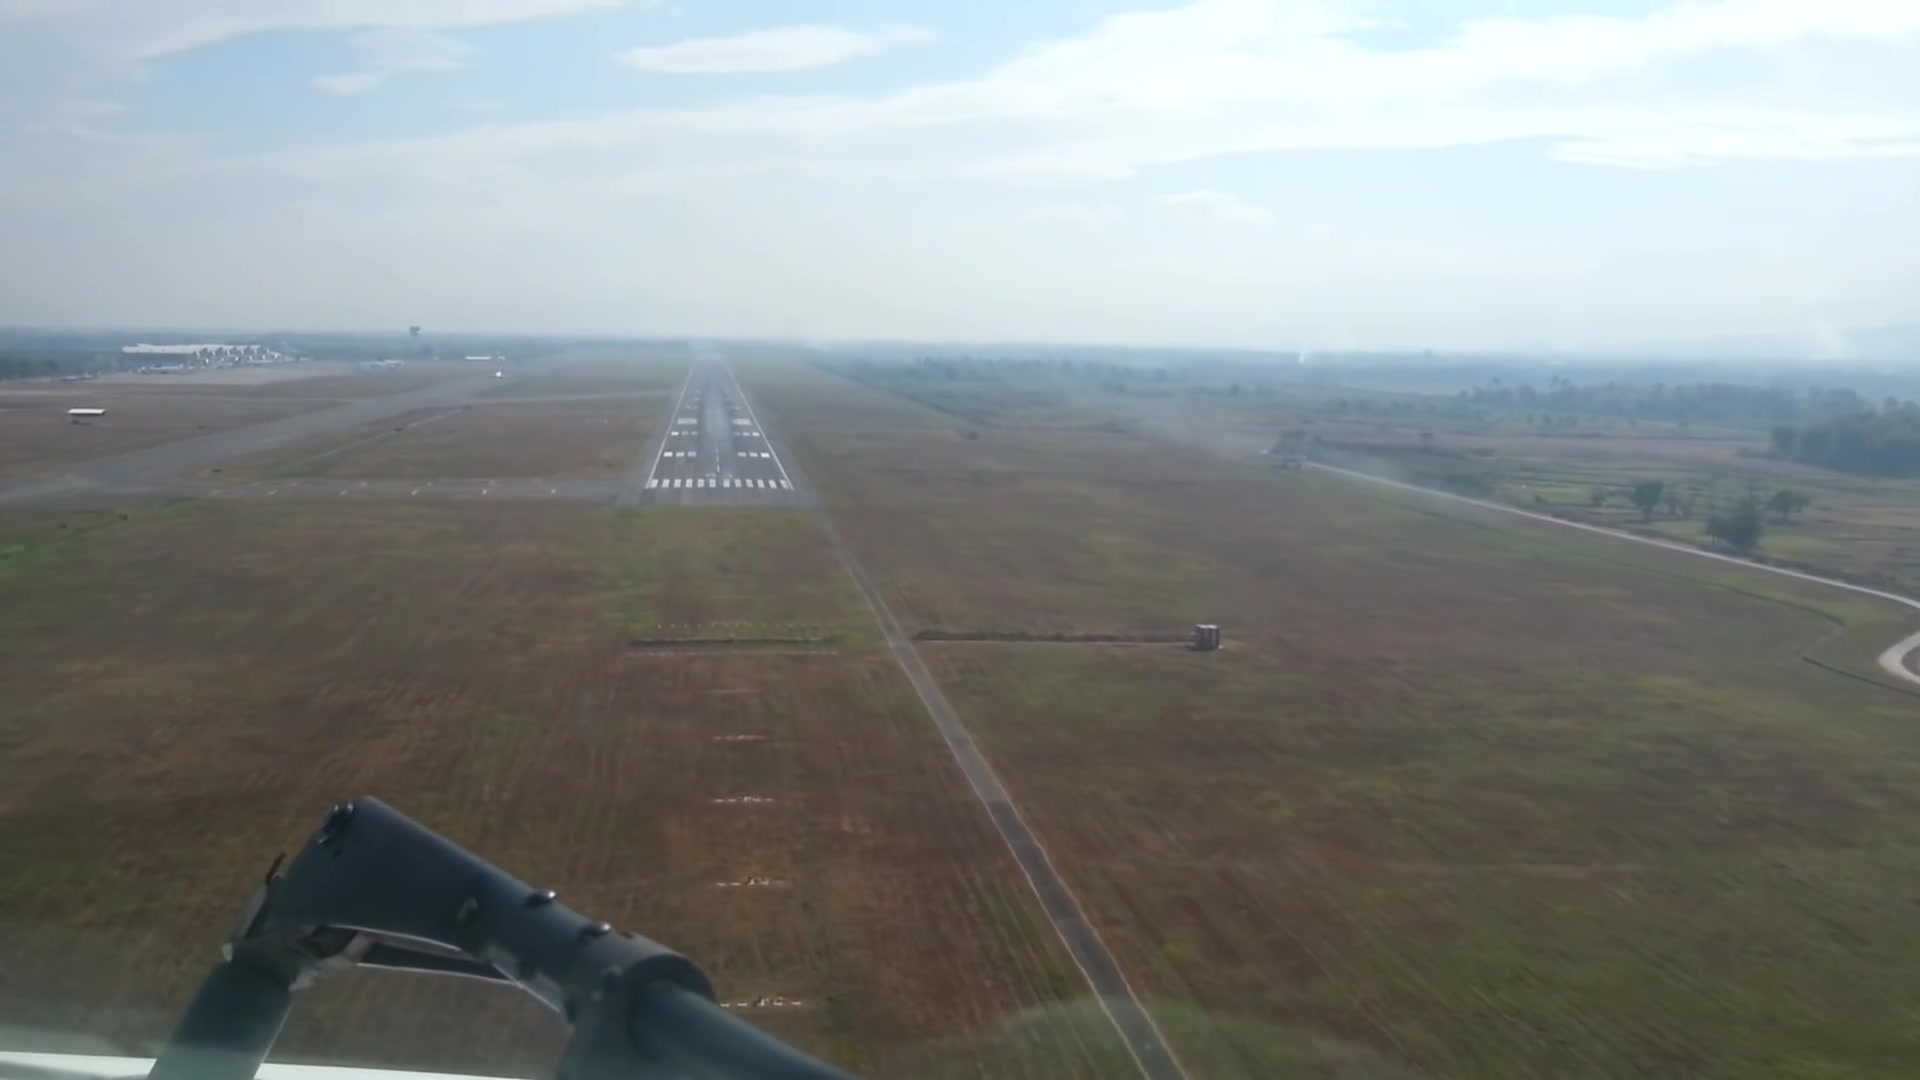entrance: (647, 476, 790, 491)
runway: (645, 338, 793, 495)
